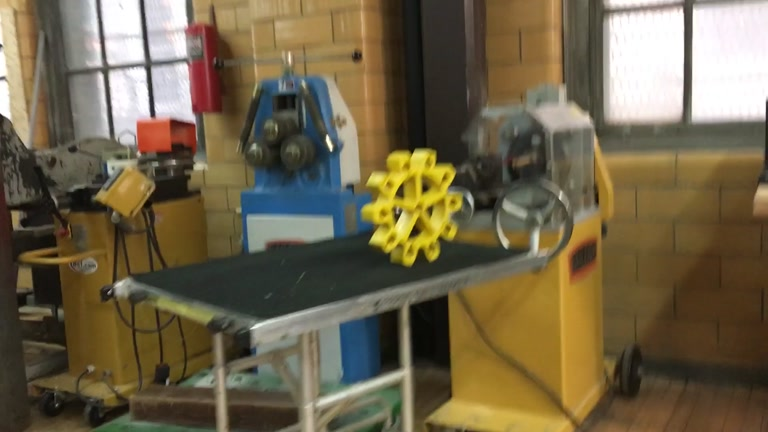gear: (363, 147, 463, 267)
